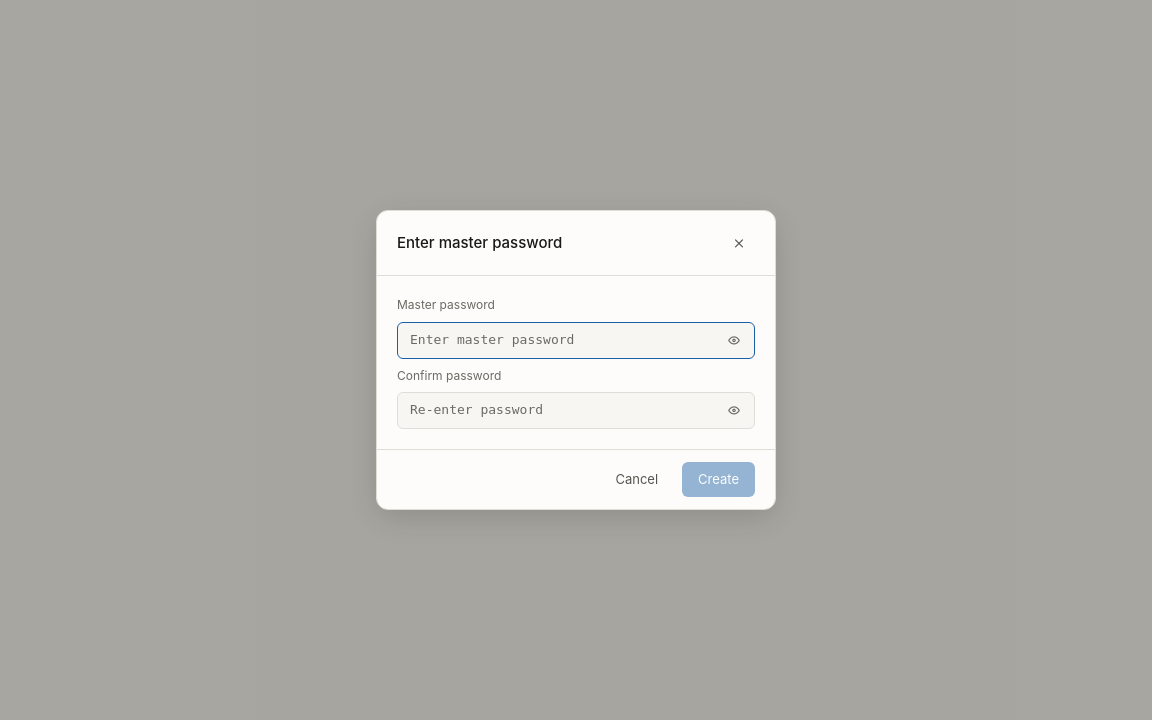
Scenario: PasswordDialog › requires confirmation fields to match
The width and height of the screenshot is (1152, 720).
Type "first-password" into the password field labelled "Master password" at (576, 340), box [397, 322, 755, 358]
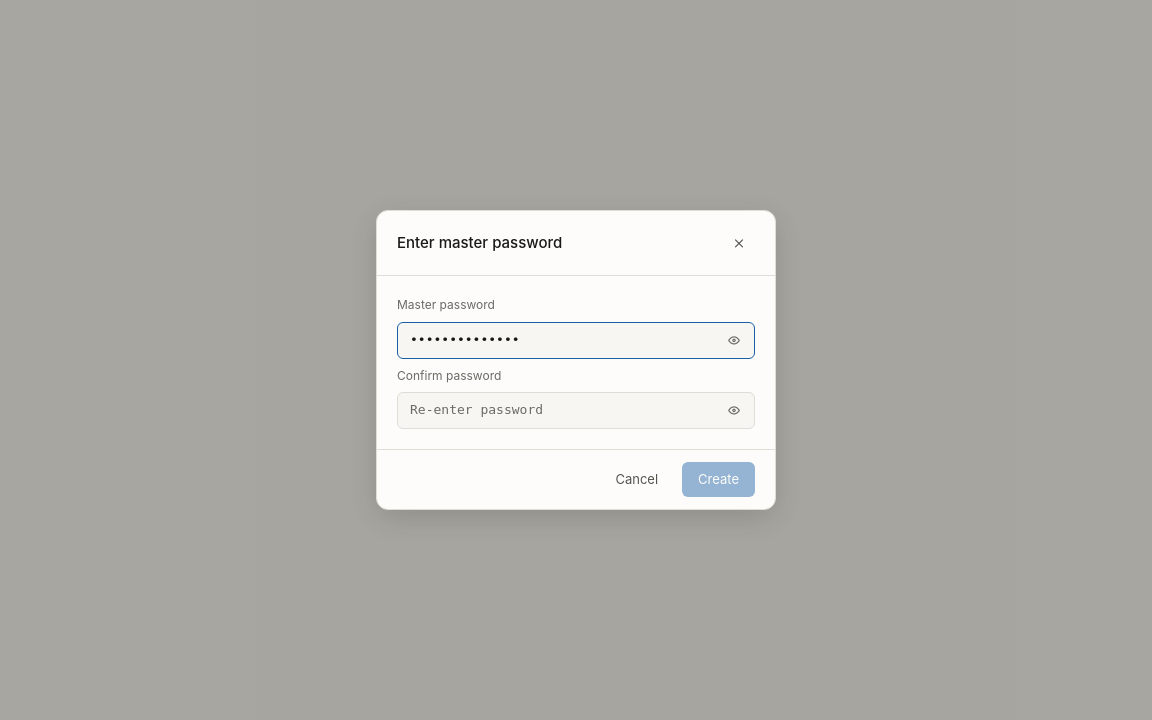
Type "different-password" into the password field labelled "Confirm password" at (576, 410), box [397, 392, 755, 429]
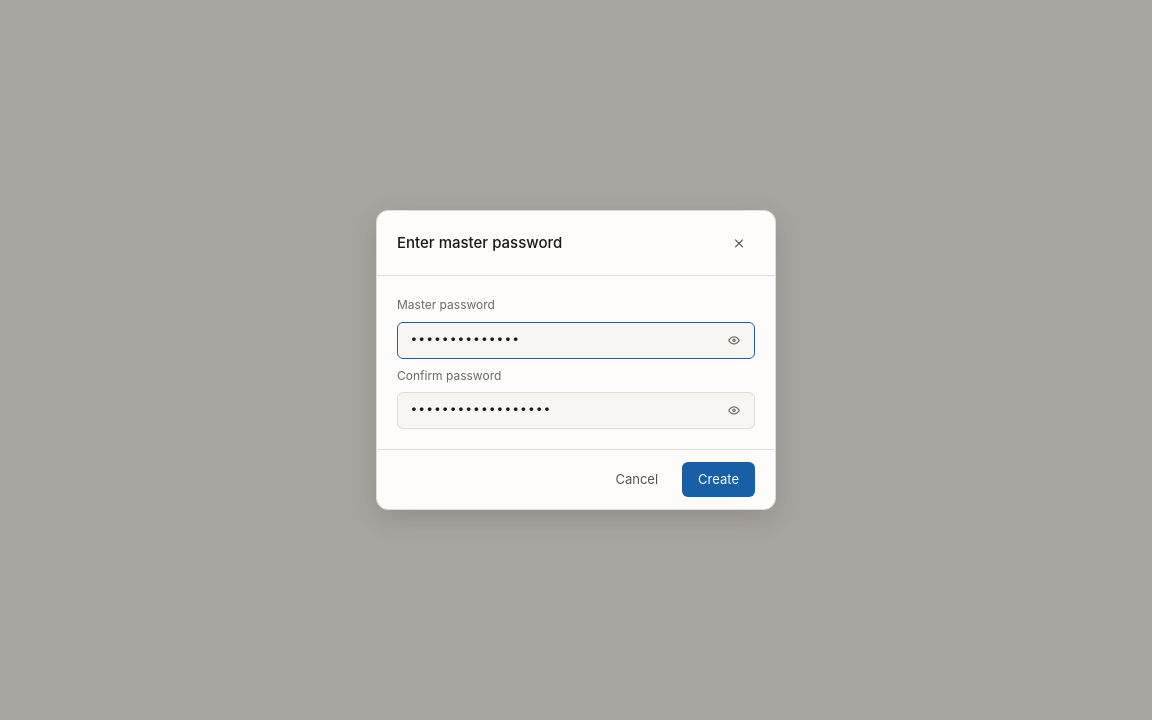
Click the button "Create" at (719, 479), box [682, 462, 755, 497]
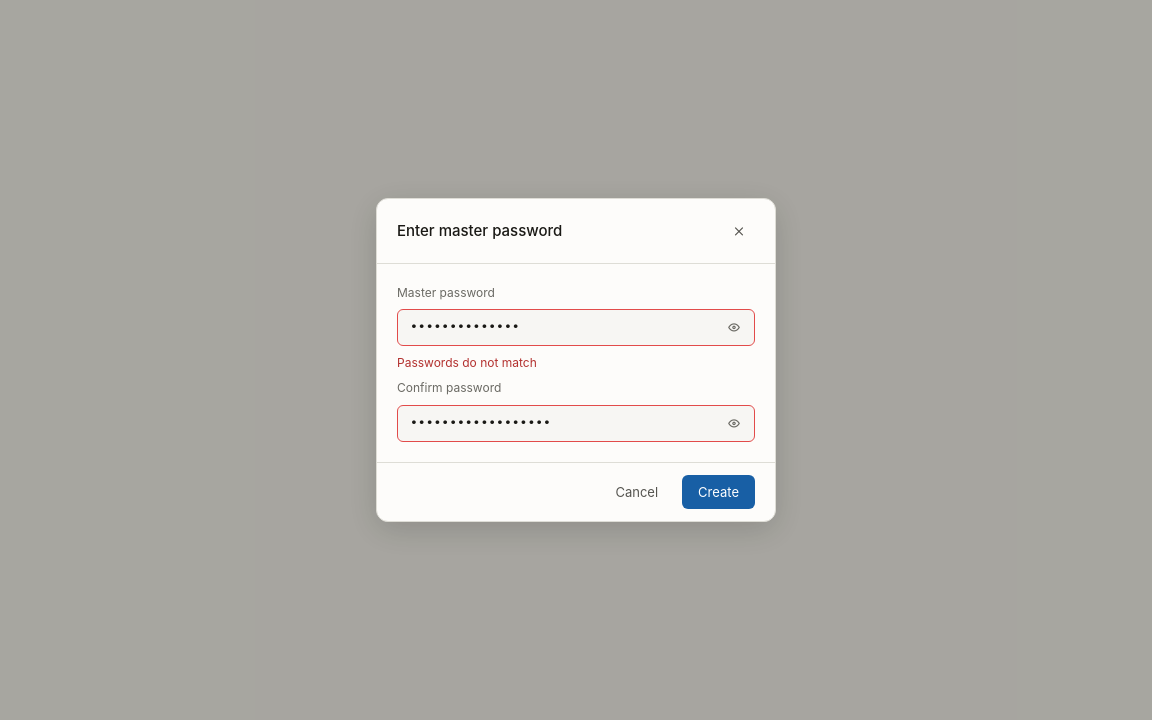
Expected: the text "Passwords do not match" is shown, [397, 355, 537, 370]
